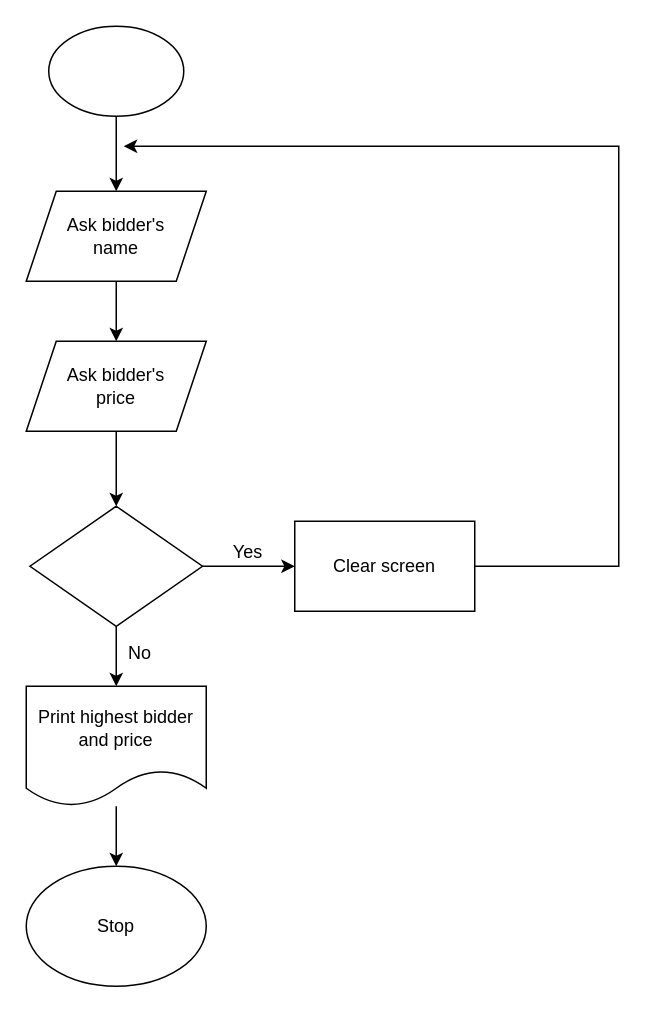
Some shapes in this 657 by 1013 pixel diagram are drawn without their labels. The shapes that lost their labels are listed below. From the top down, each one's box as (x1, y1, x2, y2) in pixels, then its label:
(47, 25, 184, 116): Start
(28, 505, 202, 626): Add more bidders?
